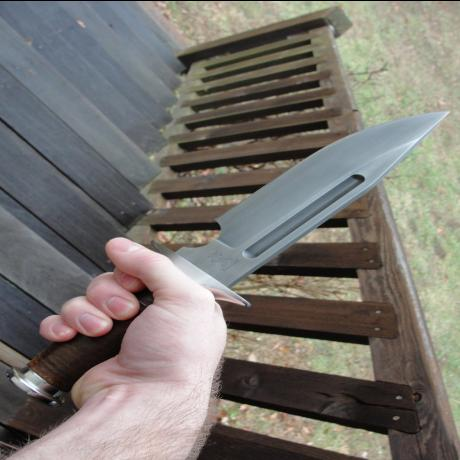1: (4, 235, 224, 460)
weapon: (142, 107, 456, 302)
